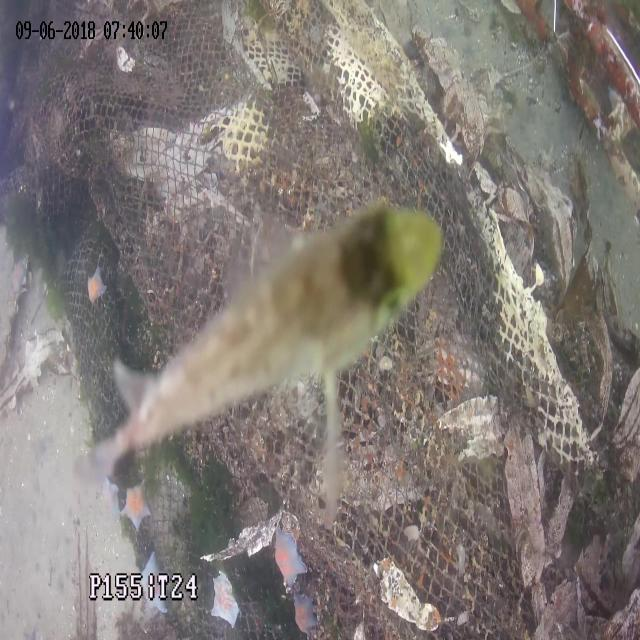starfish: (273, 524, 307, 594), (135, 550, 171, 614), (210, 573, 244, 629), (124, 478, 152, 534), (98, 475, 122, 528), (294, 595, 317, 633), (86, 268, 108, 304), (9, 260, 27, 298)
